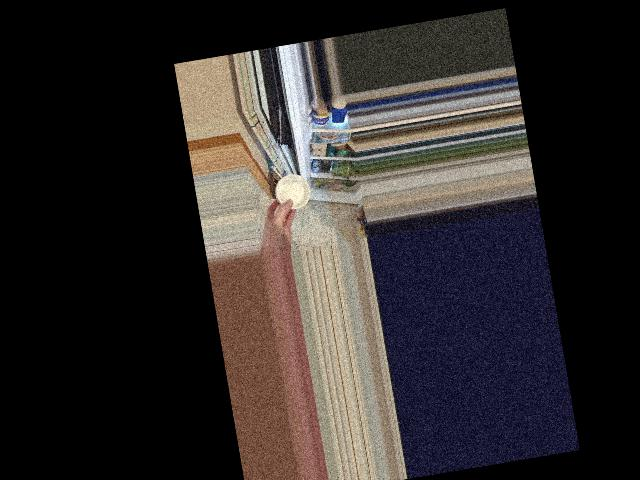cotage: (269, 172, 310, 212)
